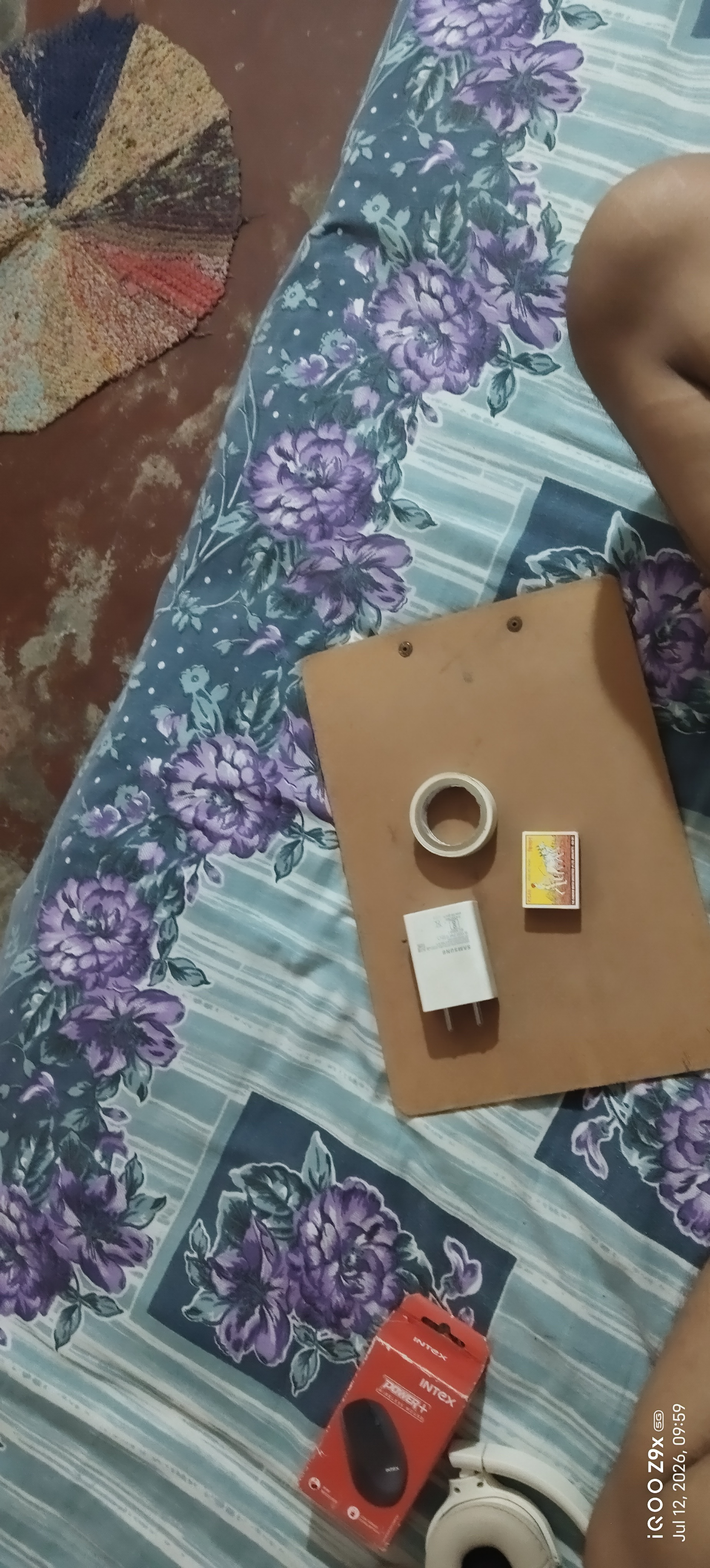charger: (398, 895, 508, 1036)
matchbox: (516, 826, 586, 918)
tape_roll: (405, 768, 504, 868)
